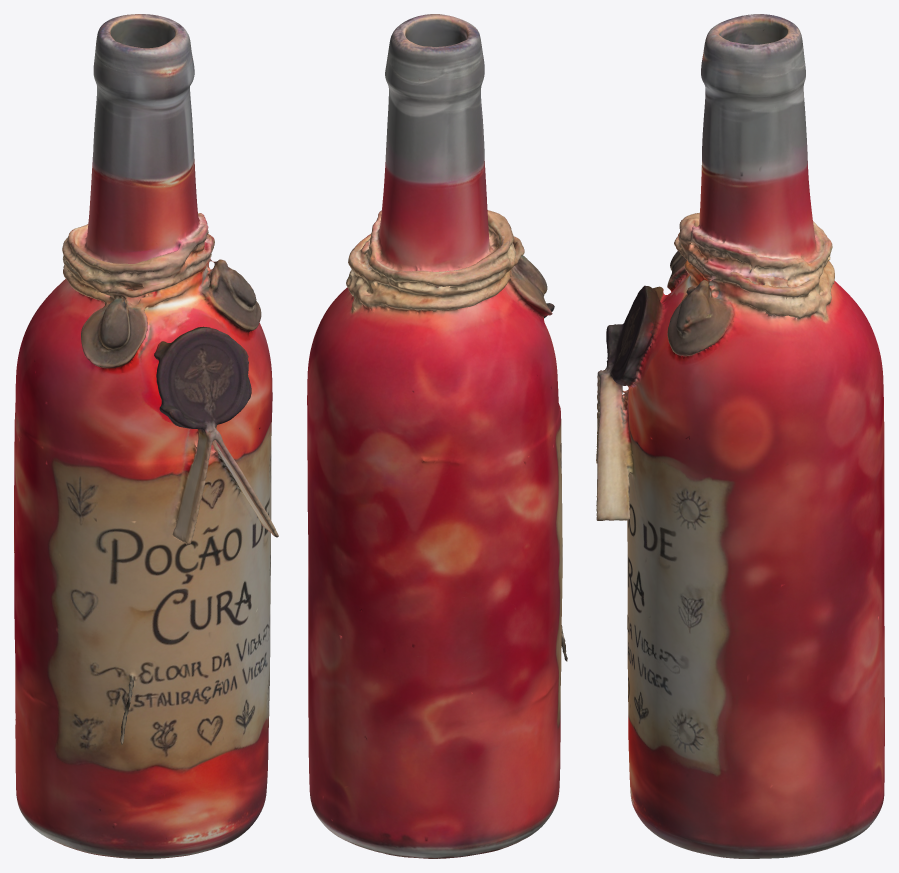
File: Meshy_AI_Poção_de_Cura_0521152542_texture.fbx
3 renders of one model, left to right at view 1: azimuth 30°, elevation 25°; view 2: azimuth 150°, elevation 25°; view 3: azimuth 270°, elevation 25°, orthographic.
Visible parts, largest first — view 1: Mesh_0; view 2: Mesh_0; view 3: Mesh_0.
Part boxes in pixels (<box>): Mesh_0: <box>14,14,278,858</box>; Mesh_0: <box>307,14,567,858</box>; Mesh_0: <box>596,14,884,858</box>.
Size of the model in its own units: 59.68 by 200 by 66.65.
1 material, 1 textured.
